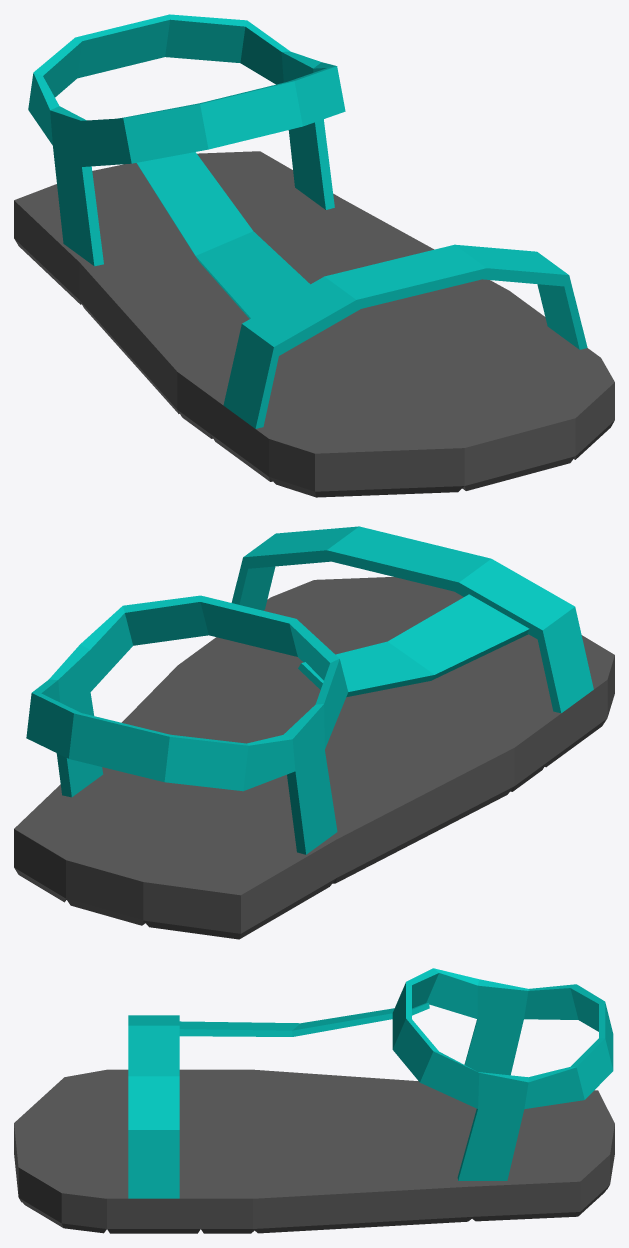
Rendered from Sandal.glb.
3 renders of one model, top to bottom at view 1: azimuth 30°, elevation 25°; view 2: azimuth 150°, elevation 25°; view 3: azimuth 270°, elevation 25°, orthographic. The views are drawn at different scales.
Parts seen in each view (by area): view 1: Sandal_Cube.035; view 2: Sandal_Cube.035; view 3: Sandal_Cube.035.
Part boxes in pixels (left/top/right/bottom): Sandal_Cube.035: left=14, top=14, right=614, bottom=497; Sandal_Cube.035: left=14, top=526, right=614, bottom=939; Sandal_Cube.035: left=14, top=968, right=614, bottom=1233.
Size of the model in its own units: 4.91 by 3.02 by 9.65.
